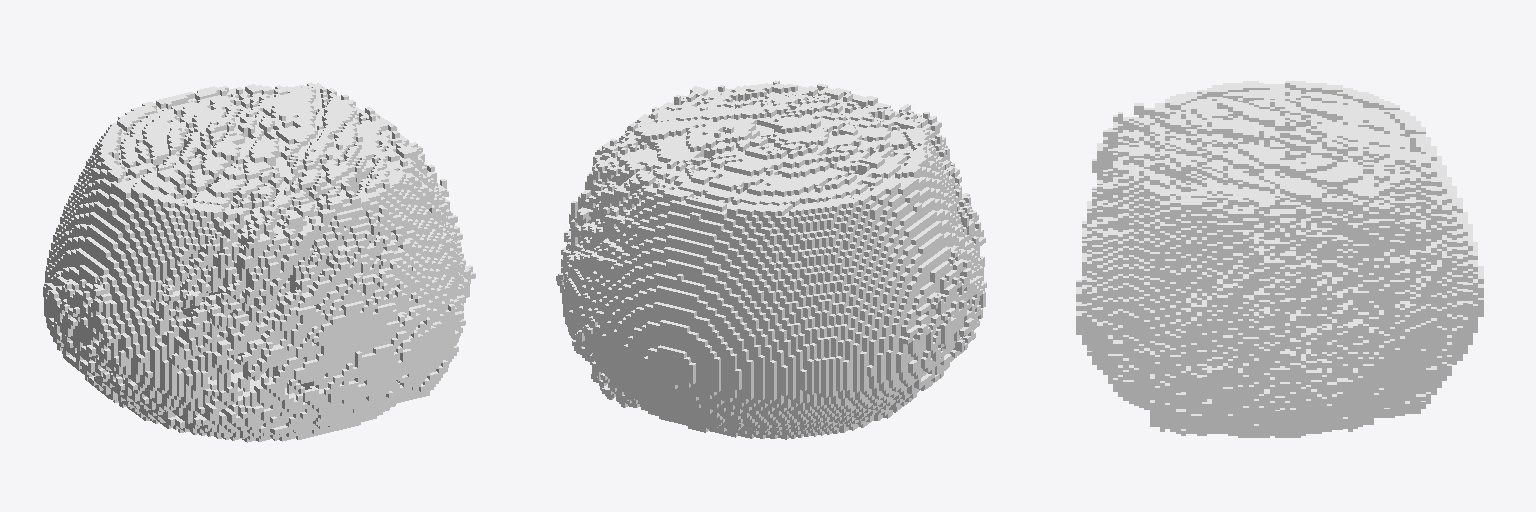
File: Ice-Stone.obj
3 renders of one model, left to right at view 1: azimuth 30°, elevation 25°; view 2: azimuth 150°, elevation 25°; view 3: azimuth 270°, elevation 25°, orthographic.
Parts seen in each view (by area): view 1: object 1; view 2: object 1; view 3: object 1.
Boxes of the visible parts, <box> form: object 1: <box>43,82,475,442</box>; object 1: <box>556,80,986,439</box>; object 1: <box>1076,81,1483,437</box>.
Bounding box in the file's own units: 8.2 × 5.2 × 7.8.